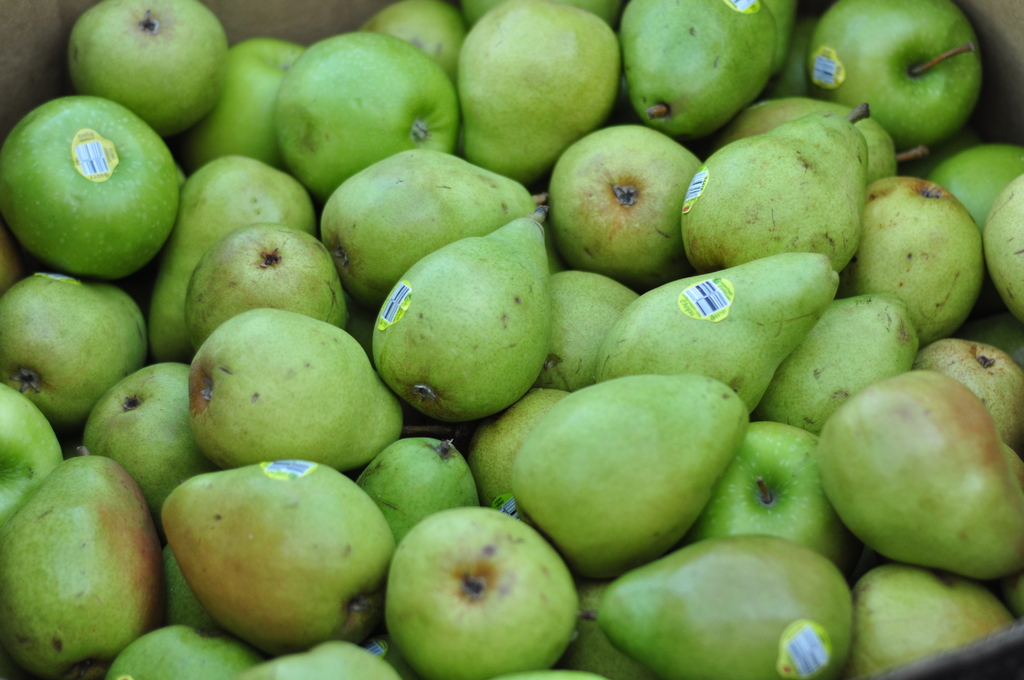Apple: (5, 101, 175, 284), (273, 35, 461, 198), (695, 418, 868, 578), (803, 0, 983, 153), (0, 379, 65, 539)
